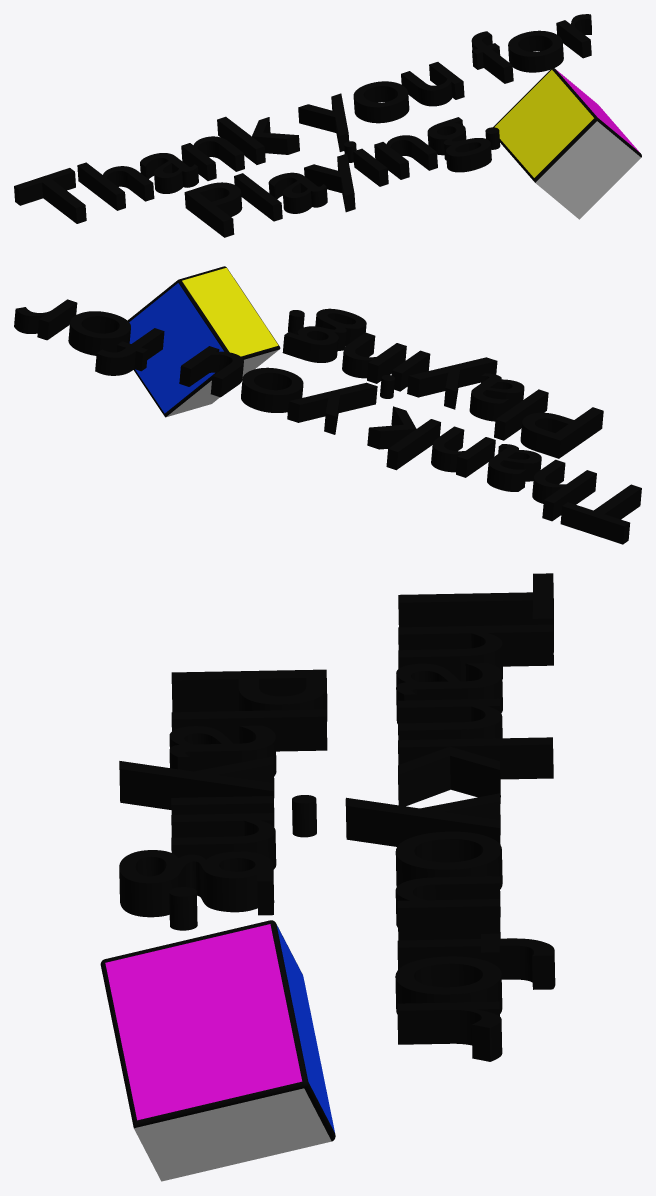
File: thankyouforplaying.fbx
3 views of the same model, one above another, from view 1: azimuth 30°, elevation 25°; view 2: azimuth 150°, elevation 25°; view 3: azimuth 270°, elevation 25° (orthographic). The views are drawn at different scales.
Visible parts, largest first — view 1: テキスト, 立方体; view 2: テキスト, 立方体; view 3: テキスト, 立方体.
Boxes of the visible parts, x1,y1,x2,y2 form: テキスト: [14, 14, 591, 237]; 立方体: [493, 68, 641, 219]; テキスト: [14, 299, 641, 544]; 立方体: [127, 266, 280, 417]; テキスト: [119, 573, 555, 1061]; 立方体: [100, 920, 335, 1181].
Size of the model in its own units: 573 by 128 by 201.
